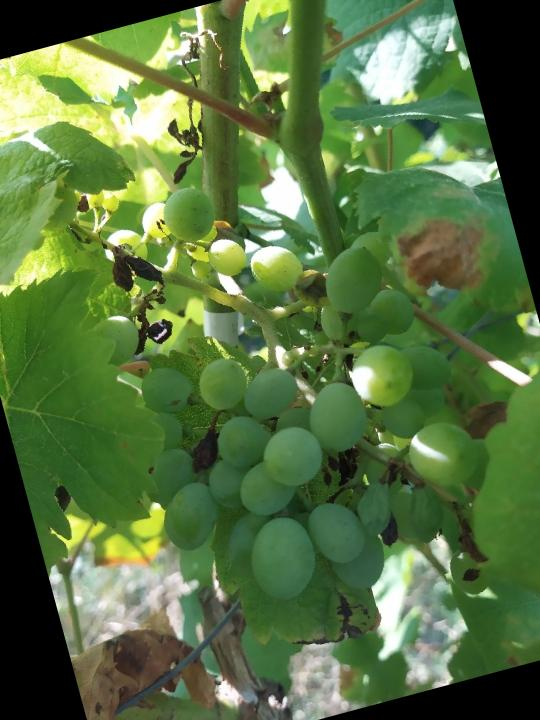grape: (67, 130, 511, 641)
